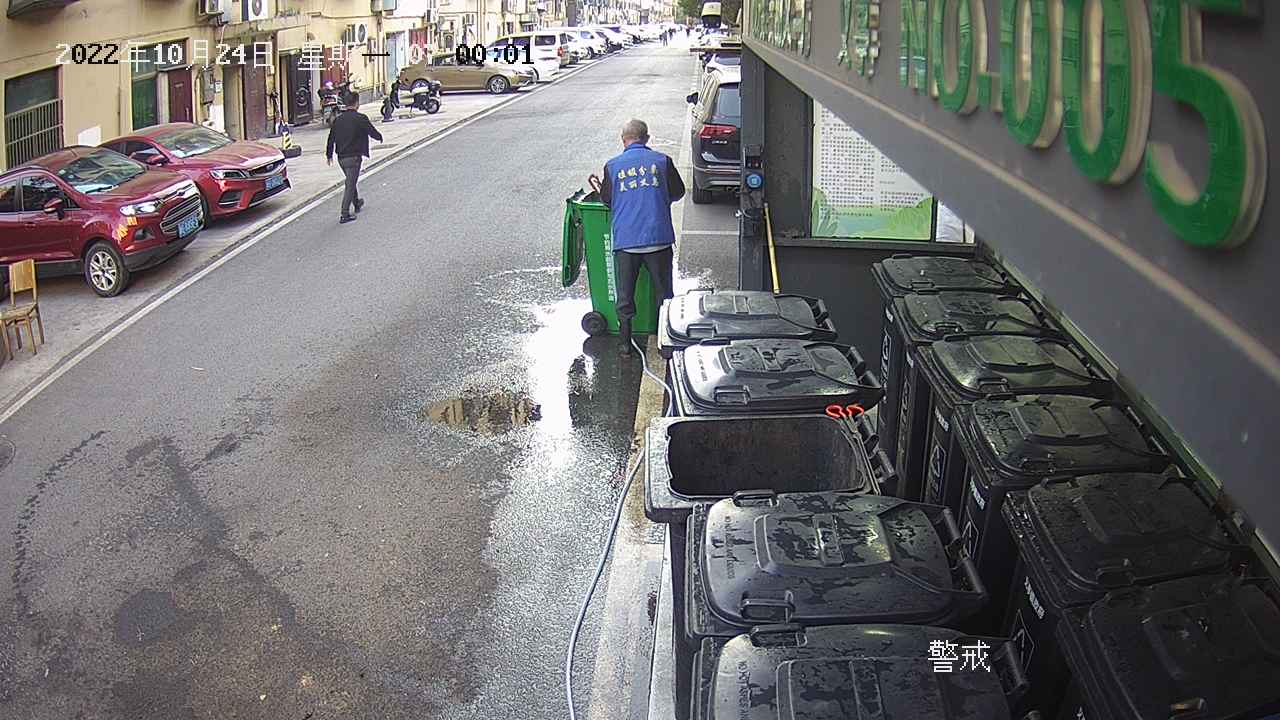person: (323, 87, 388, 227)
worker: (597, 116, 691, 368)
